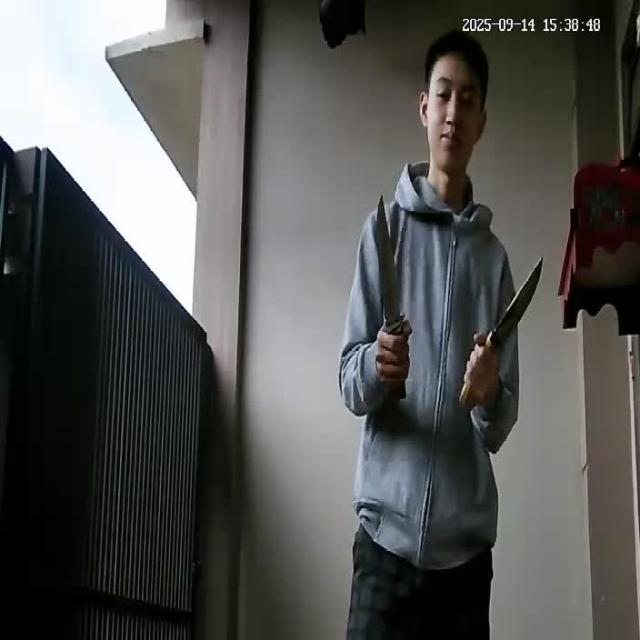senjata_tajam: (488, 254, 546, 352), (375, 195, 409, 337)
